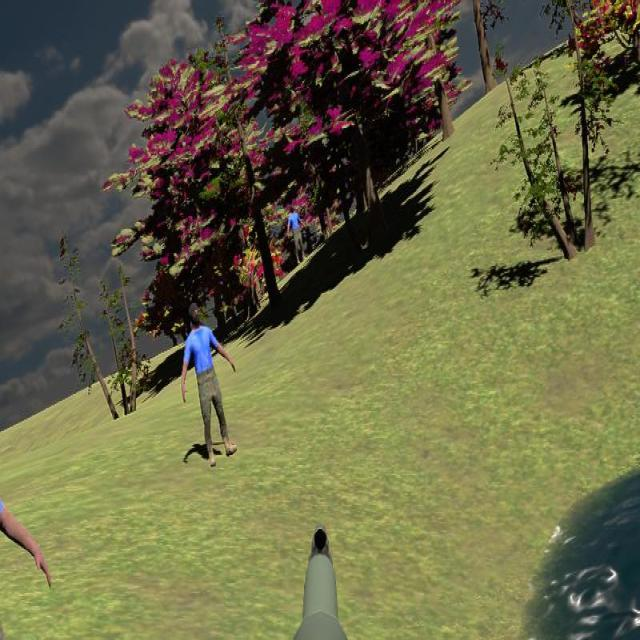Human: (0, 426, 51, 640), (181, 301, 237, 467), (287, 202, 307, 268)
